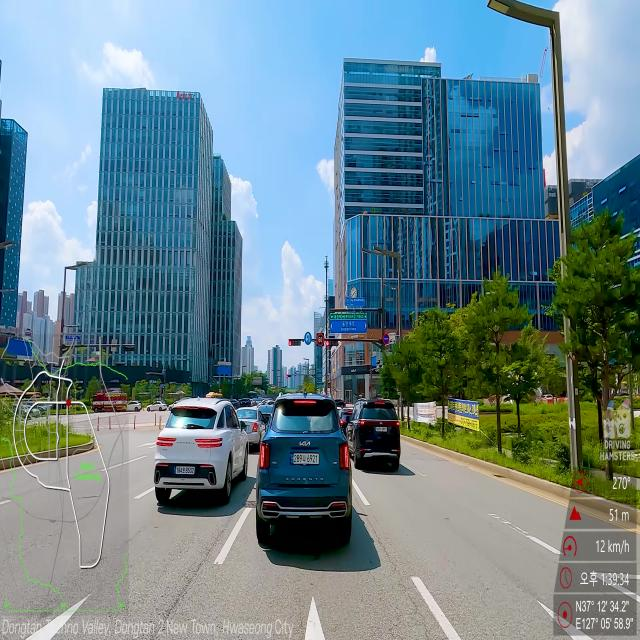Red Light: (288, 340, 292, 346), (326, 340, 328, 346)
